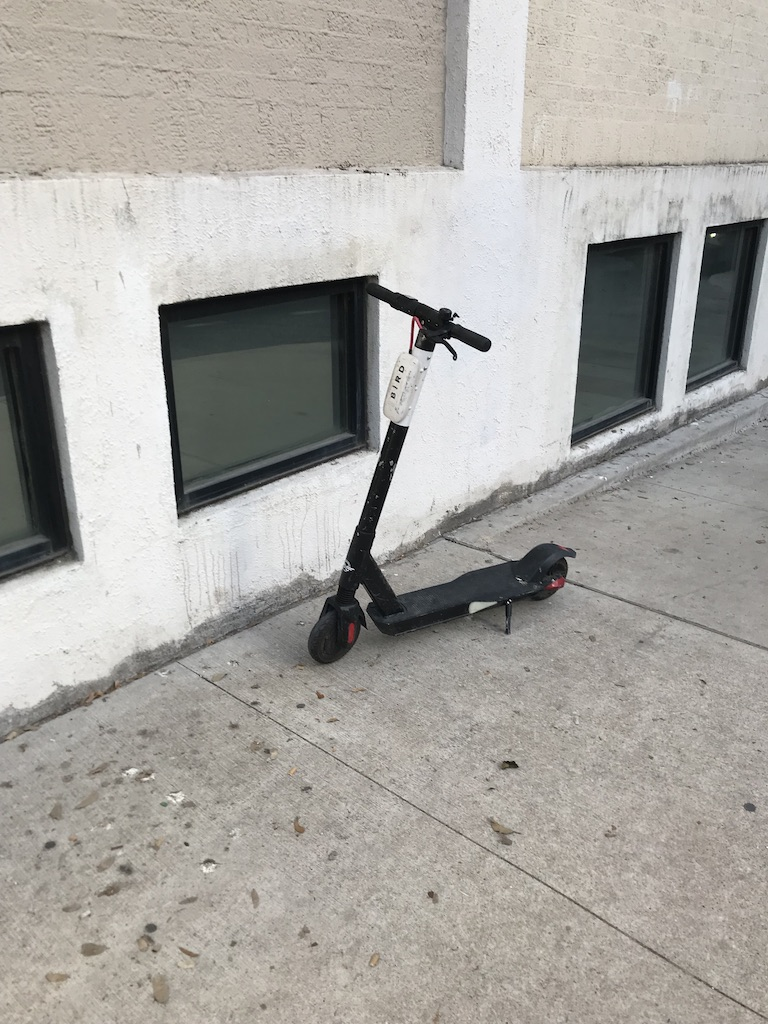scooter: (309, 282, 579, 667)
